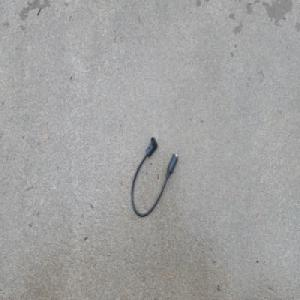Wire: (130, 134, 179, 218)
